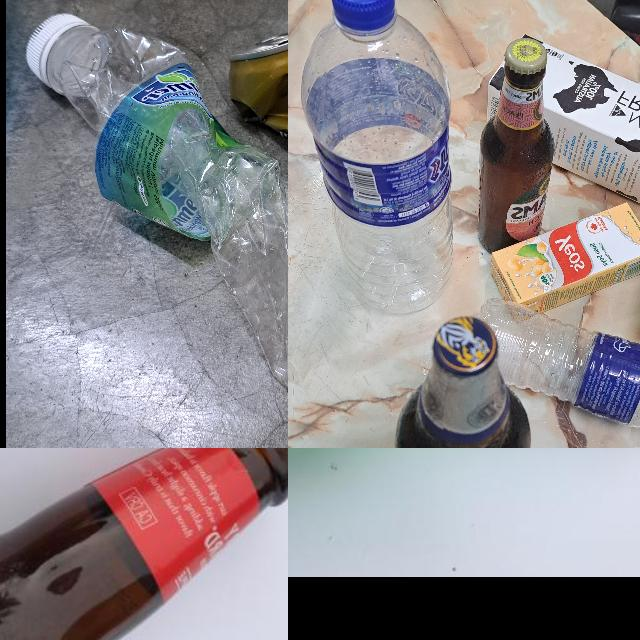aba de lata: (256, 32, 288, 46)
caixinha: (488, 34, 640, 216), (490, 202, 640, 322)
garrafa de vidro: (0, 448, 288, 640), (396, 315, 530, 448), (478, 38, 554, 252)
garrafa plástica: (46, 24, 288, 390), (302, 11, 450, 312), (478, 298, 640, 428)
lata: (227, 15, 288, 229)
tampa plástica: (24, 14, 86, 86), (330, 0, 395, 30)
